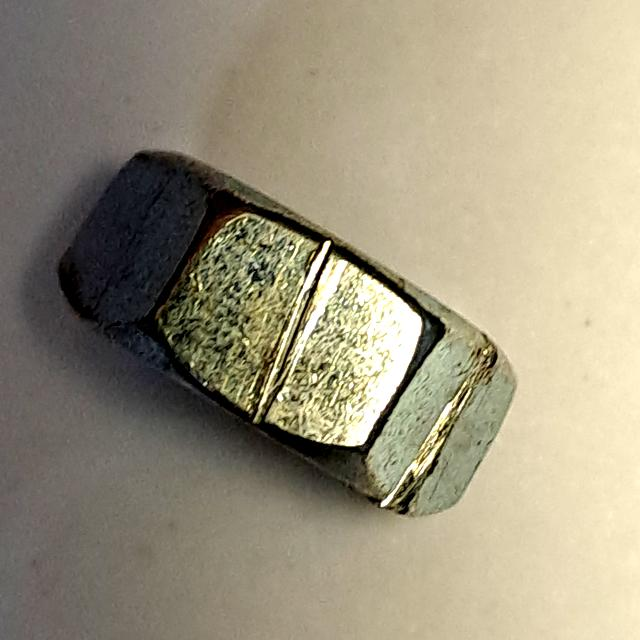Side_Scratches: (42, 134, 533, 530)
